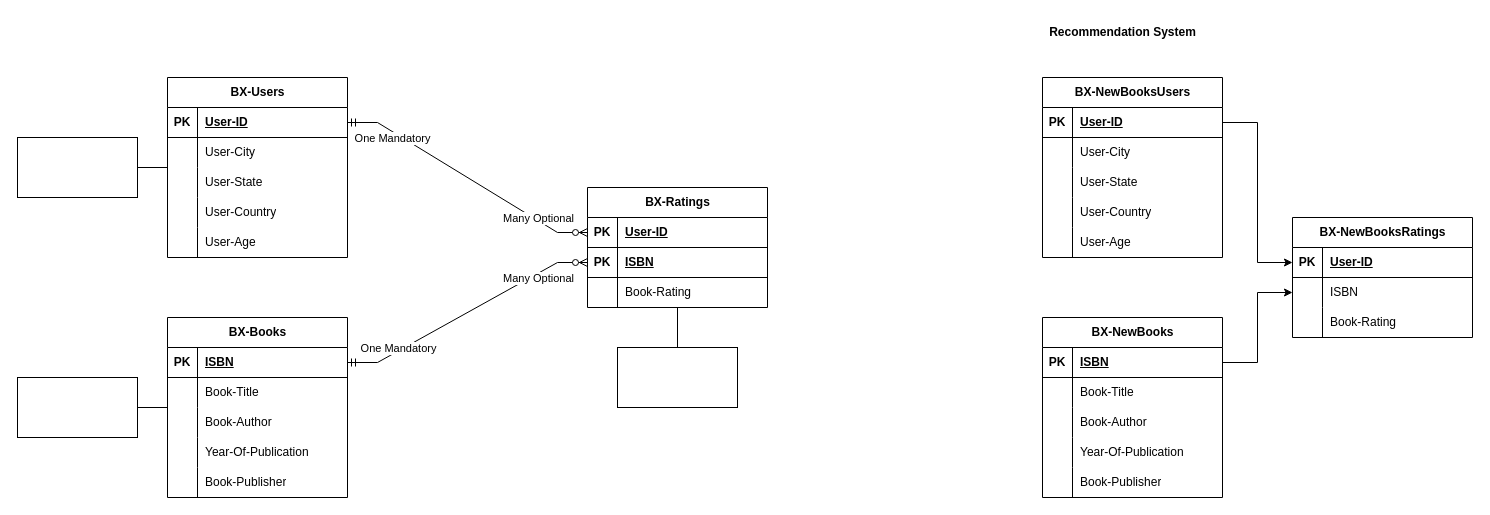
The diagram is 1490 pixels wide and 515 high, and some of its shapes have lost their labels. Each missing label, with the centre of its shape:
"18,185 rows" belongs at pixel 77 407.
"204,165 rows" belongs at pixel 677 377.
"48,299 rows" belongs at pixel 77 167.
